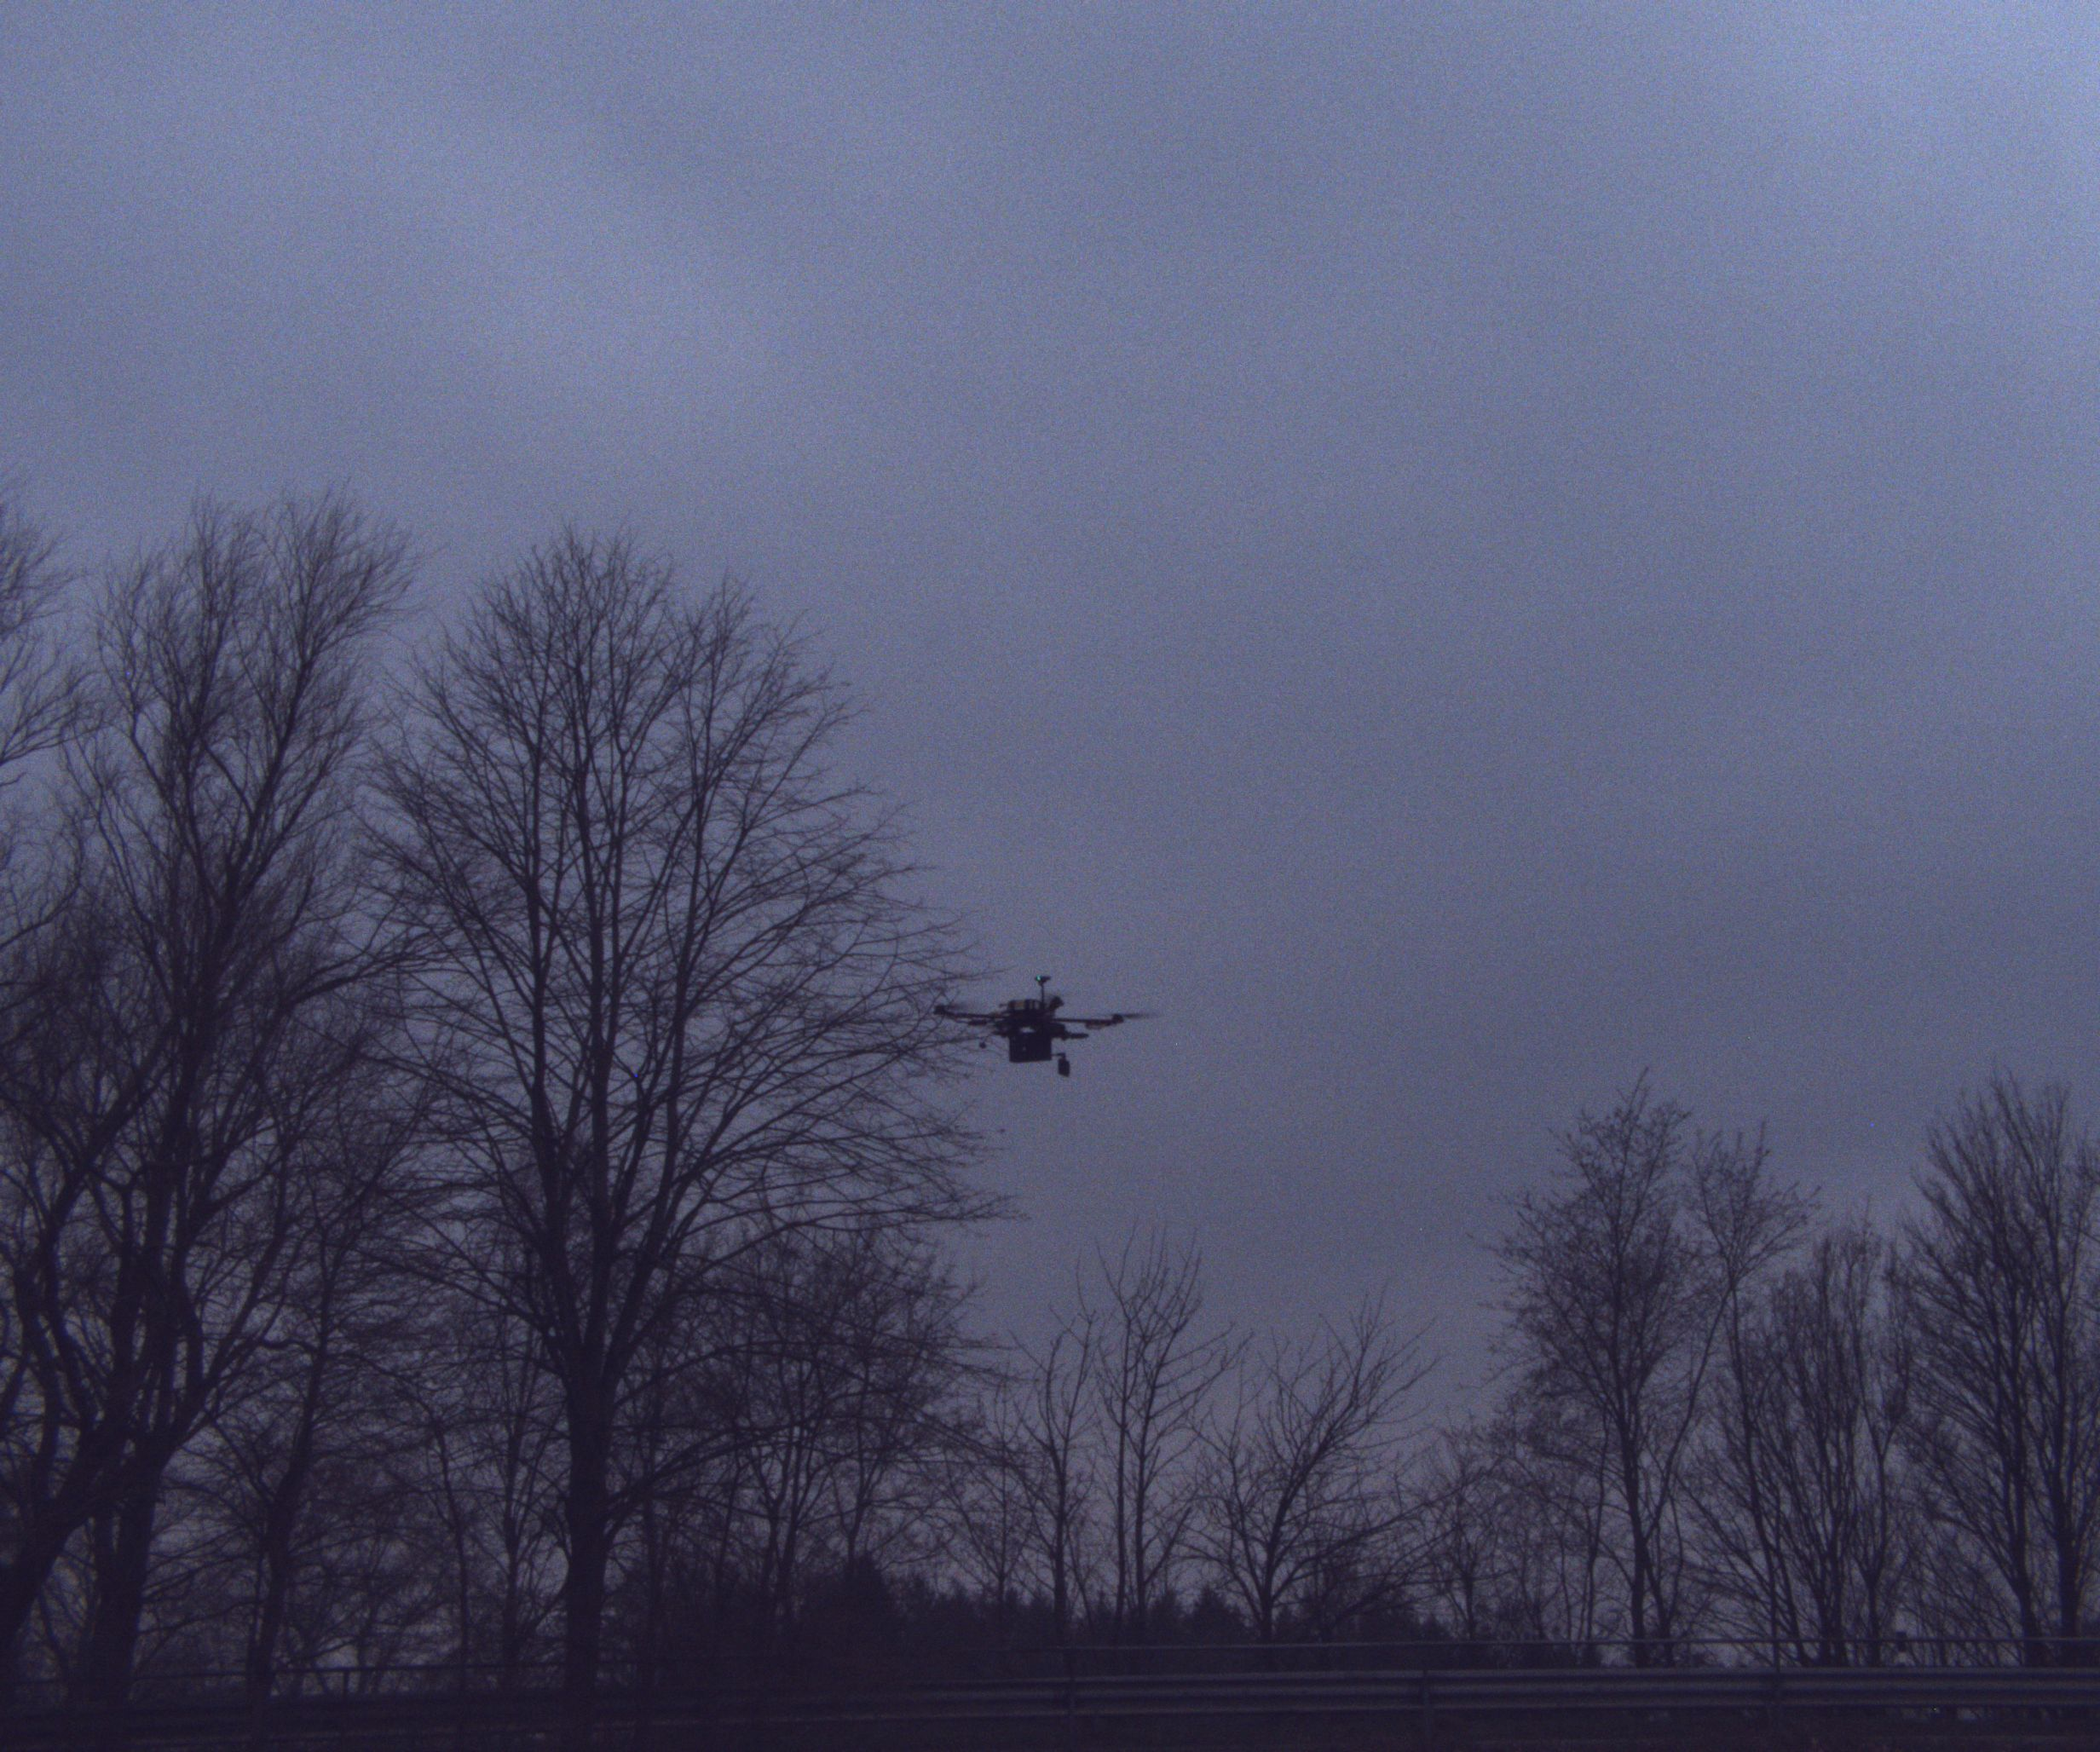Drohne: (893, 969, 1345, 1201)
